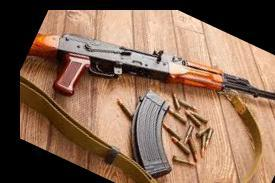larga: (26, 33, 275, 100)
